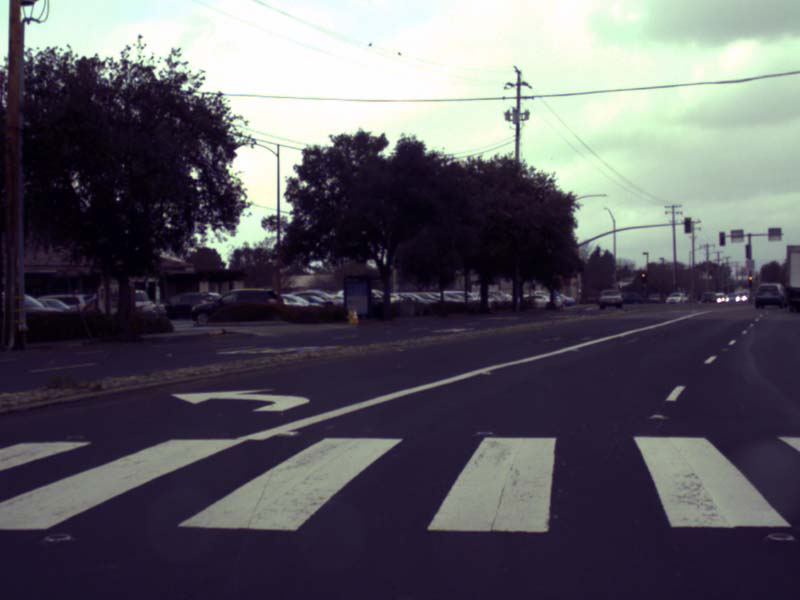Red: (641, 272, 646, 283), (748, 275, 752, 286)
